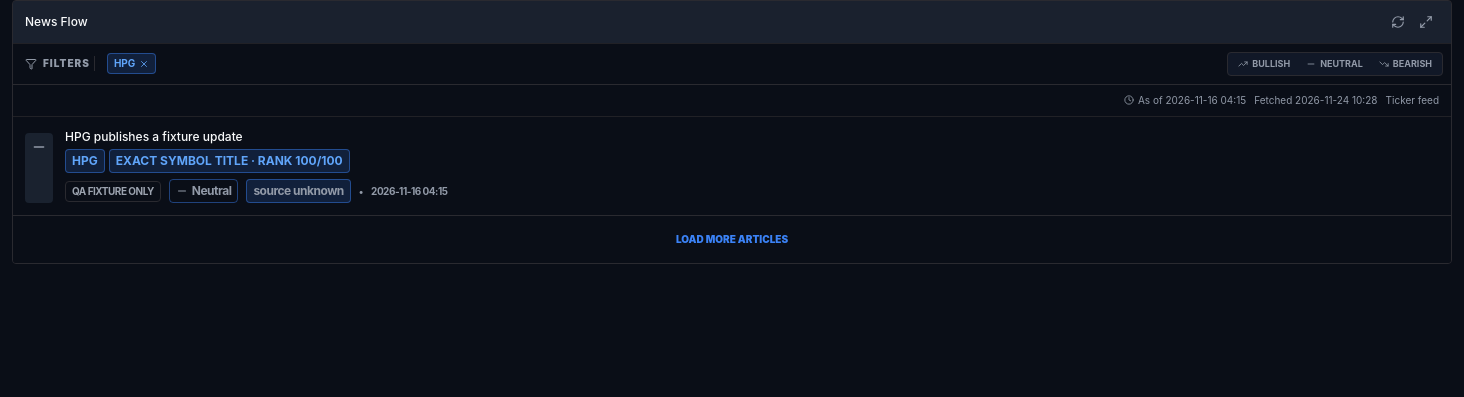
Test: applies a fallback envelope only to its own page, even with stale rank metadata
The width and height of the screenshot is (1464, 397).
Expected: the link "HPG publishes a fixture update" is shown, [13, 116, 1451, 216]
Click the button "Load More Articles": (732, 240) [13, 216, 1451, 263]
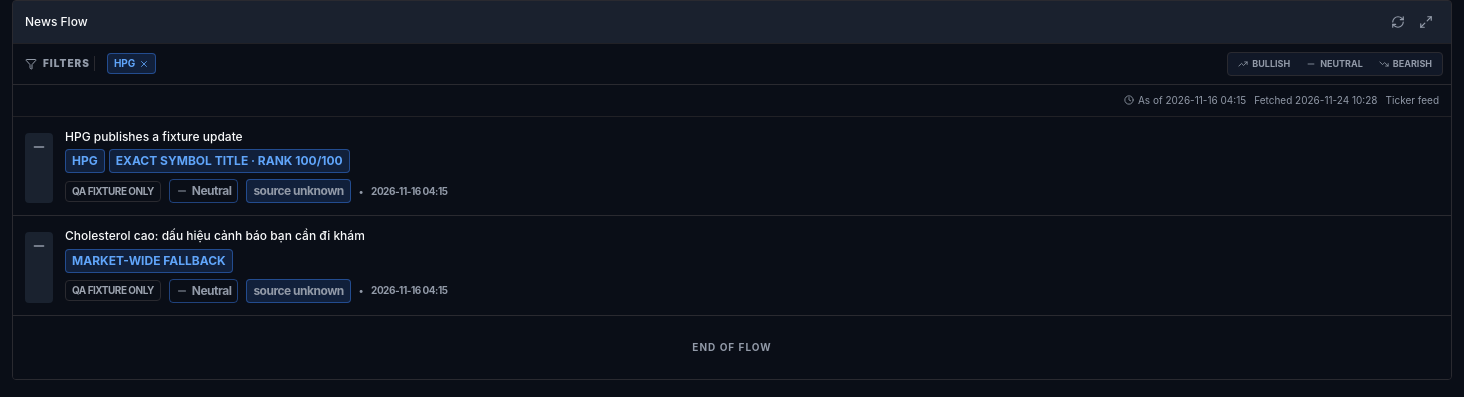
Expected: the element showing "HPG" is shown, [107, 53, 156, 74]
Now the link "Cholesterol cao" shows "Market-wide fallback", box [13, 216, 1451, 316]
